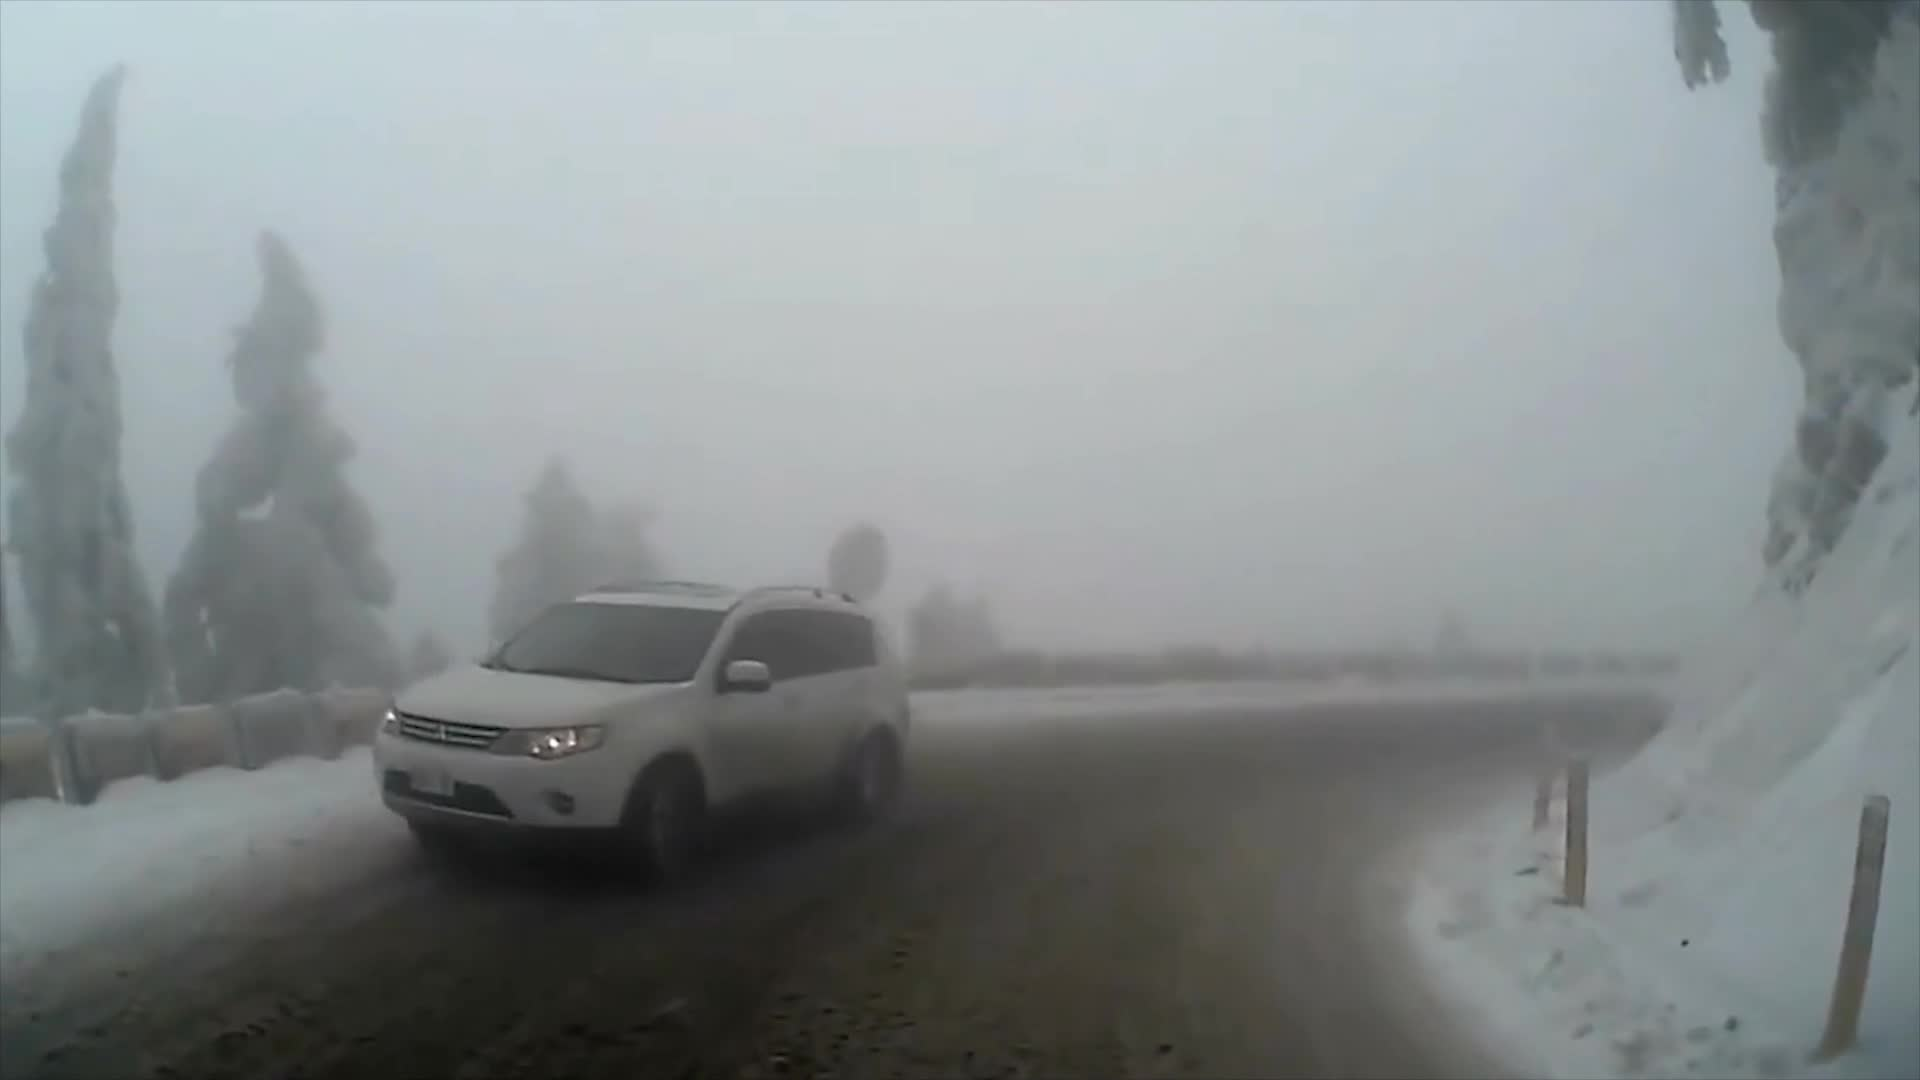vehicle: (368, 578, 914, 887)
